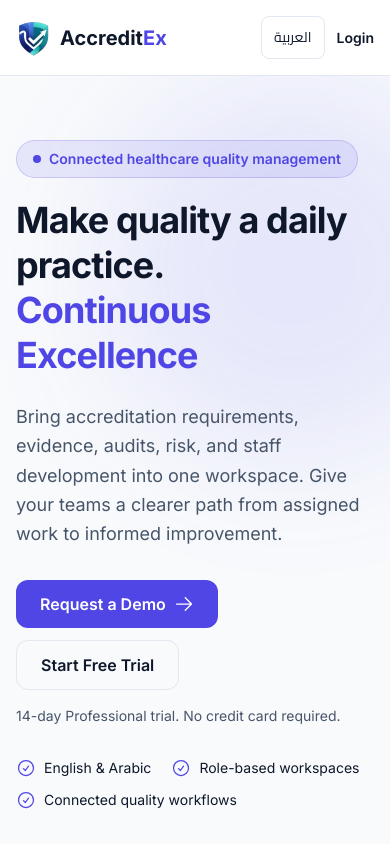
Test case: Public landing experience › shows the unavailable submission error and keeps the form available
Click the button "Request a Demo" at point(117, 604), box [16,580,218,628]
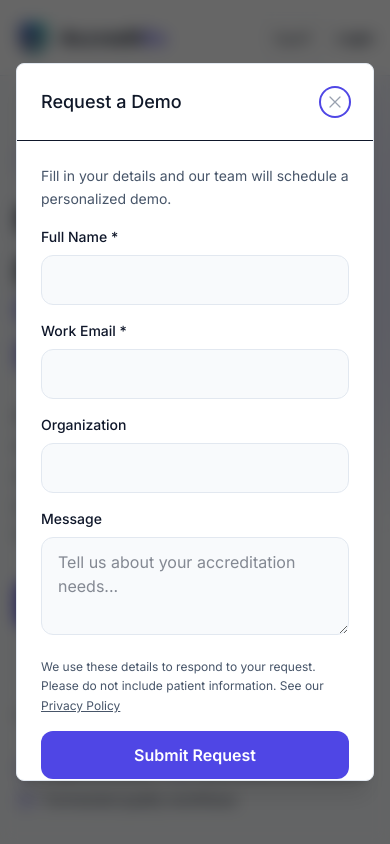
Type "  Demo Person  " into the field labelled "Full Name *" at point(195, 280), box [41,255,349,305]
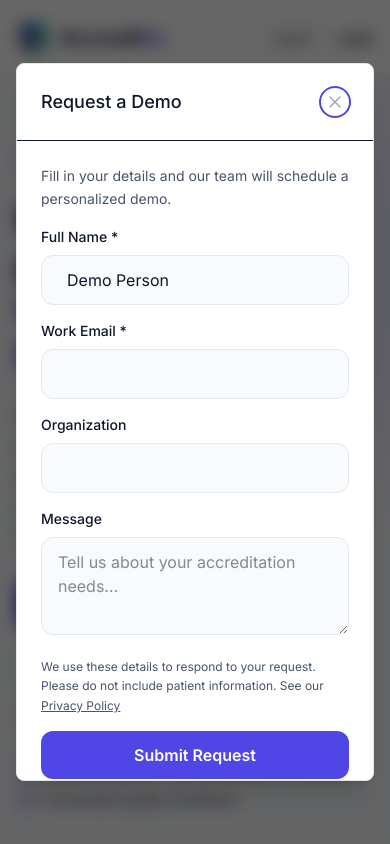
Type "demo@example.test" into the field labelled "Work Email *" at point(195, 374), box [41,349,349,399]
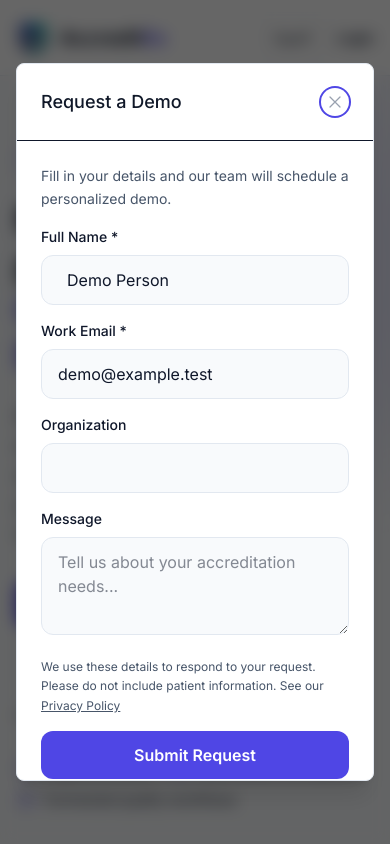
Click the button "Submit Request" at point(195, 755), box [41,731,349,779]
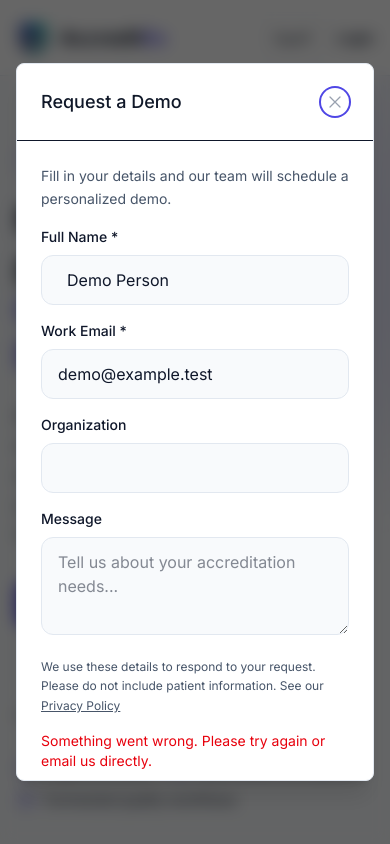
Check: the message shows "Something went wrong.", box [41,732,325,769]
